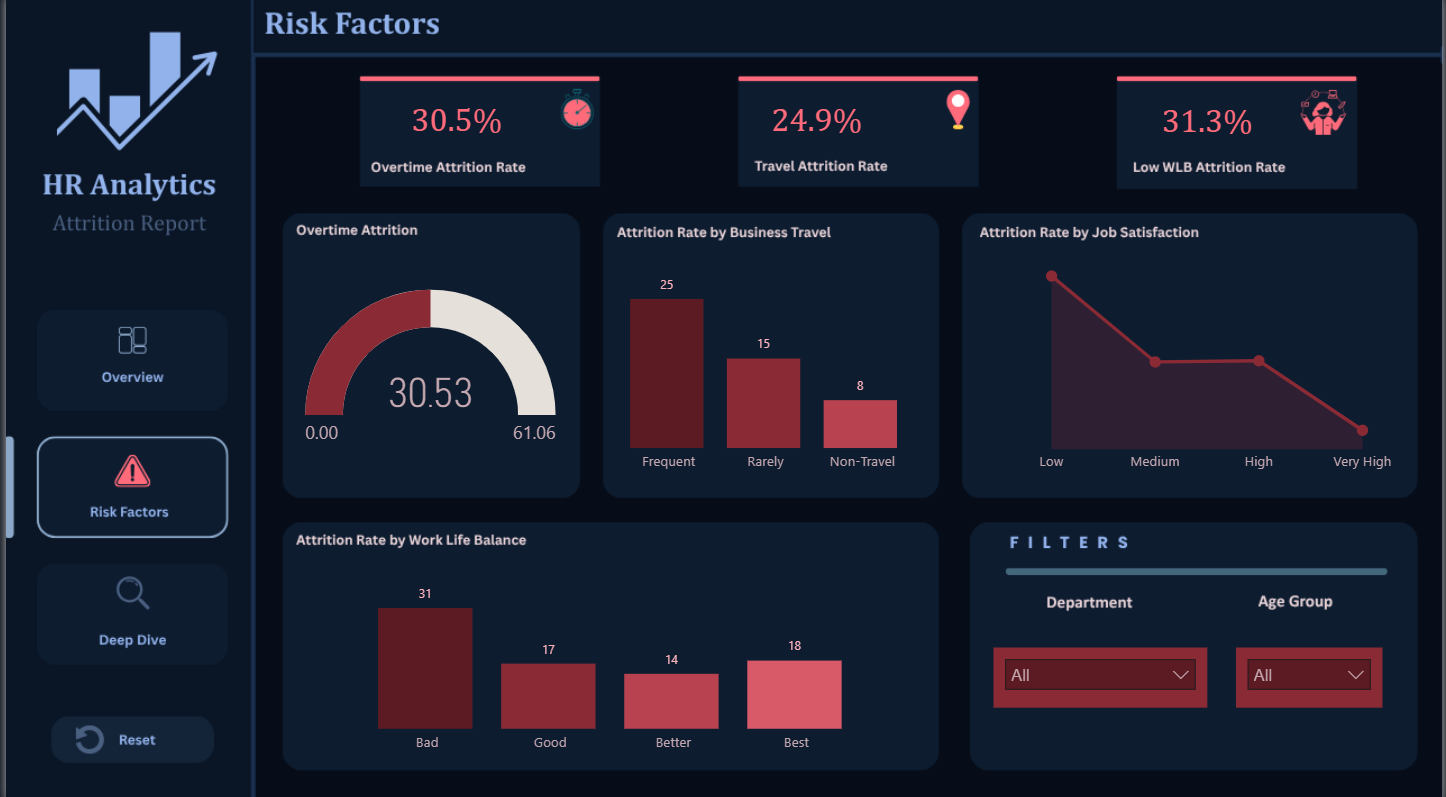

The page's visual inventory and layout, read from the dashboard file:
{"tool":"powerbi","page":{"name":"Risk Factors","canvas":[1280,720],"ordinal":1},"visuals":[{"type":"cardVisual","fields":{"Data":["hr_attrition_clean.Overtime Attrition Rate"]},"box":[327.6,73.6,148.5,71.2],"z":0},{"type":"cardVisual","fields":{"Data":["hr_attrition_clean.Low WLB Attrition Rate"]},"box":[995.1,71.2,149.7,77.3],"z":1000},{"type":"cardVisual","fields":{"Data":["hr_attrition_clean.Travel Attrition Rate"]},"box":[647.9,66.3,148.5,85.9],"z":2000},{"type":"gauge","fields":{"Y":["hr_attrition_clean.Overtime Attrition Number"]},"box":[261.4,234.4,233.1,198.8],"z":3000},{"type":"clusteredColumnChart","fields":{"Y":["hr_attrition_clean.Attrition Rate"],"Category":["hr_attrition_clean.Business Travel Label"]},"box":[516.6,234.4,320.2,198.8],"z":4000},{"type":"areaChart","fields":{"Category":["hr_attrition_clean.Job Satisfaction Label"],"Y":["hr_attrition_clean.Attrition Rate"]},"box":[889.6,222.1,360.7,211],"z":5000},{"type":"clusteredColumnChart","fields":{"Y":["hr_attrition_clean.Attrition Rate"],"Category":["hr_attrition_clean.Work Life Balance Label"]},"box":[282.2,501.8,514.1,181.6],"z":6000},{"type":"slicer","fields":{"Values":["hr_attrition_clean.Department"]},"box":[879.8,581.6,190.2,54],"z":7000},{"type":"slicer","fields":{"Values":["hr_attrition_clean.Age Group"]},"box":[1095.7,581.6,130.1,54],"z":8000},{"type":"actionButton","box":[36.8,287.1,155.8,81],"z":9000},{"type":"actionButton","box":[36.8,511.7,155.8,81],"z":10000},{"type":"actionButton","box":[50.9,646.7,127.9,39.7],"z":11000}]}

Visuals, with their boxes in screenshot pixels (x1, y1, x2, y2), scaled from the page's 1280x720 canvas onto the 1446x797 screenshot:
cardVisual - hr_attrition_clean.Overtime Attrition Rate: (370, 81, 538, 160)
cardVisual - hr_attrition_clean.Low WLB Attrition Rate: (1124, 79, 1293, 164)
cardVisual - hr_attrition_clean.Travel Attrition Rate: (732, 73, 900, 168)
gauge - hr_attrition_clean.Overtime Attrition Number: (295, 259, 559, 480)
clusteredColumnChart - hr_attrition_clean.Attrition Rate x hr_attrition_clean.Business Travel Label: (584, 259, 945, 480)
areaChart - hr_attrition_clean.Job Satisfaction Label x hr_attrition_clean.Attrition Rate: (1005, 246, 1412, 479)
clusteredColumnChart - hr_attrition_clean.Attrition Rate x hr_attrition_clean.Work Life Balance Label: (319, 555, 900, 756)
slicer - hr_attrition_clean.Department: (994, 644, 1209, 704)
slicer - hr_attrition_clean.Age Group: (1238, 644, 1385, 704)
actionButton: (42, 318, 218, 407)
actionButton: (42, 566, 218, 656)
actionButton: (58, 716, 202, 760)
